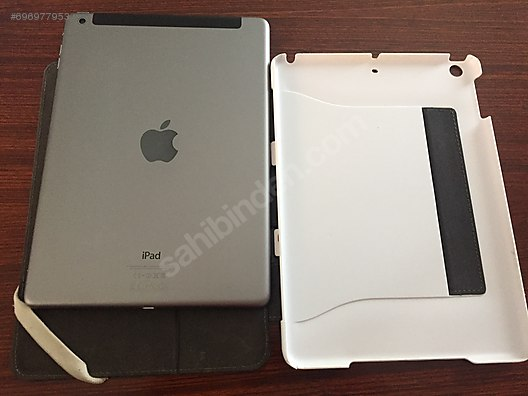apple: (135, 113, 179, 172)
